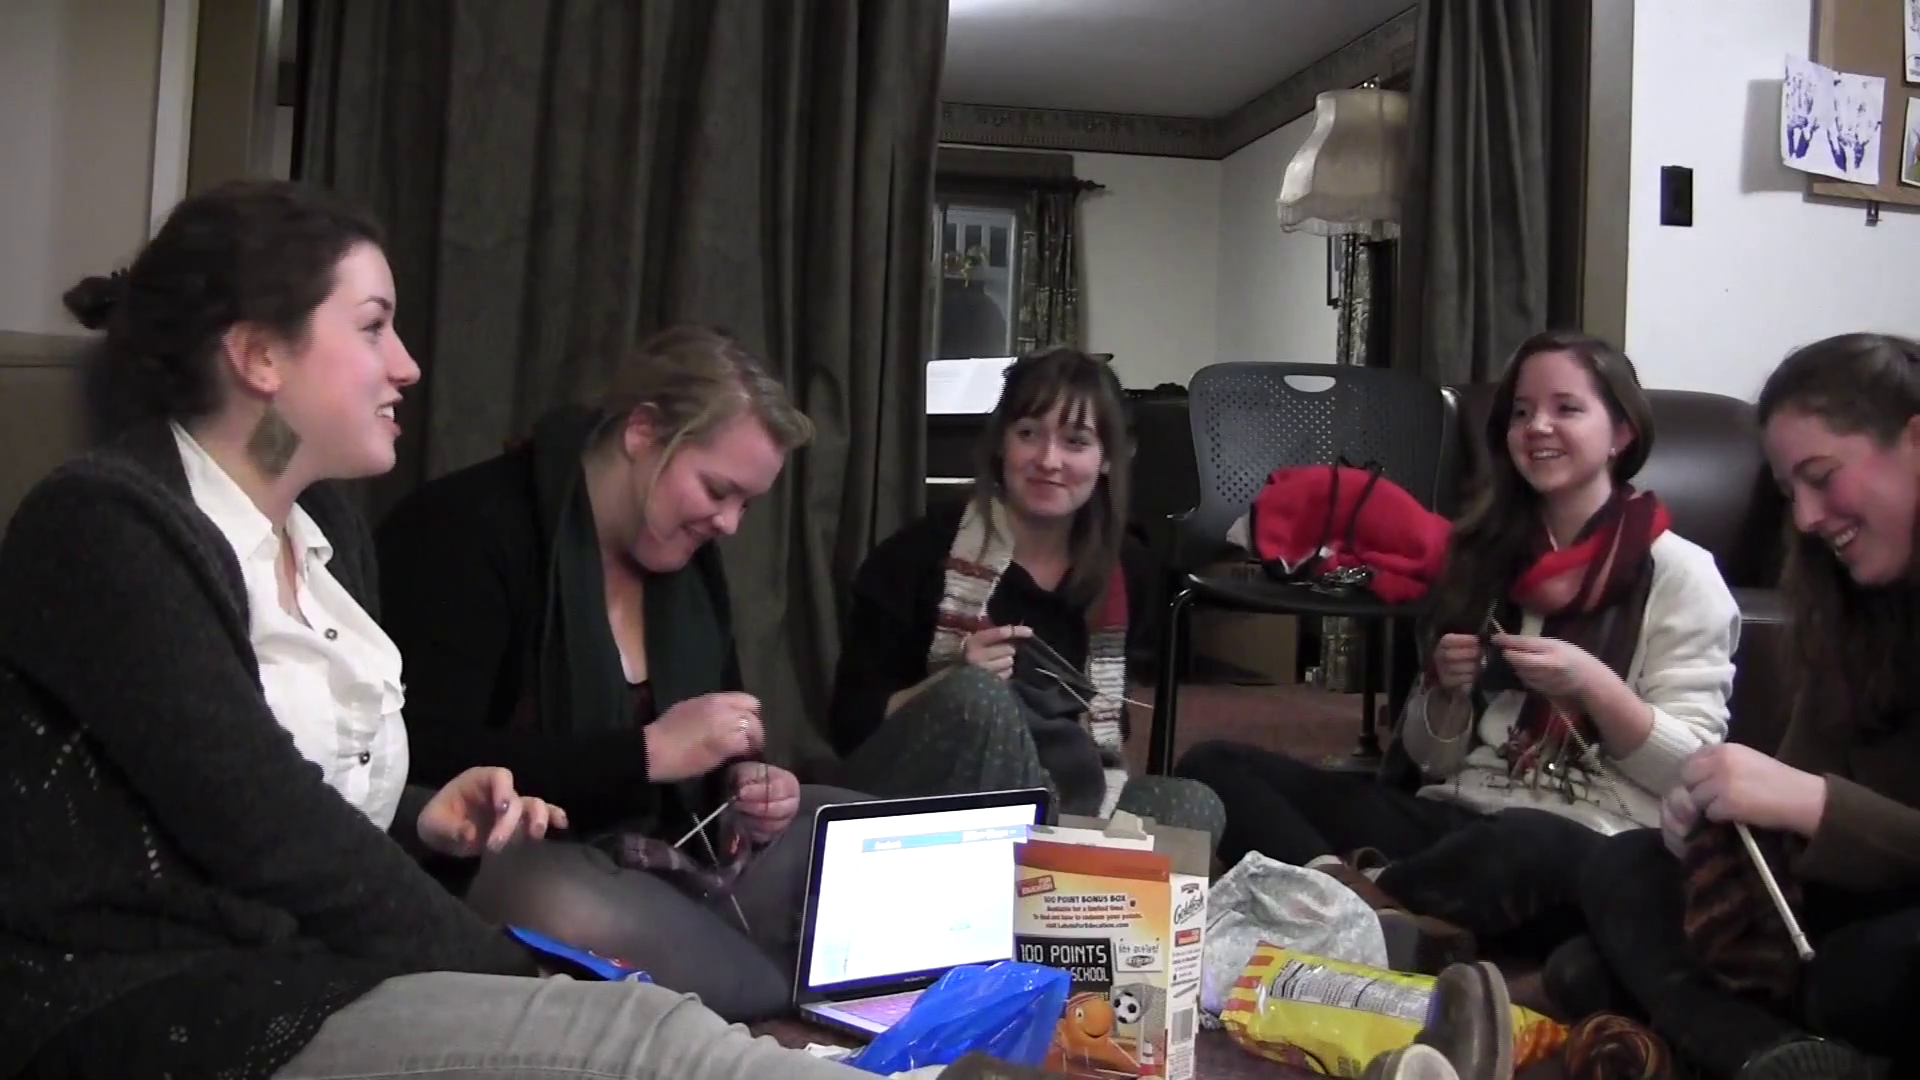person: (2, 179, 891, 1080), (1173, 331, 1744, 961), (377, 322, 814, 1019), (1546, 330, 1917, 1076), (829, 347, 1228, 870)
